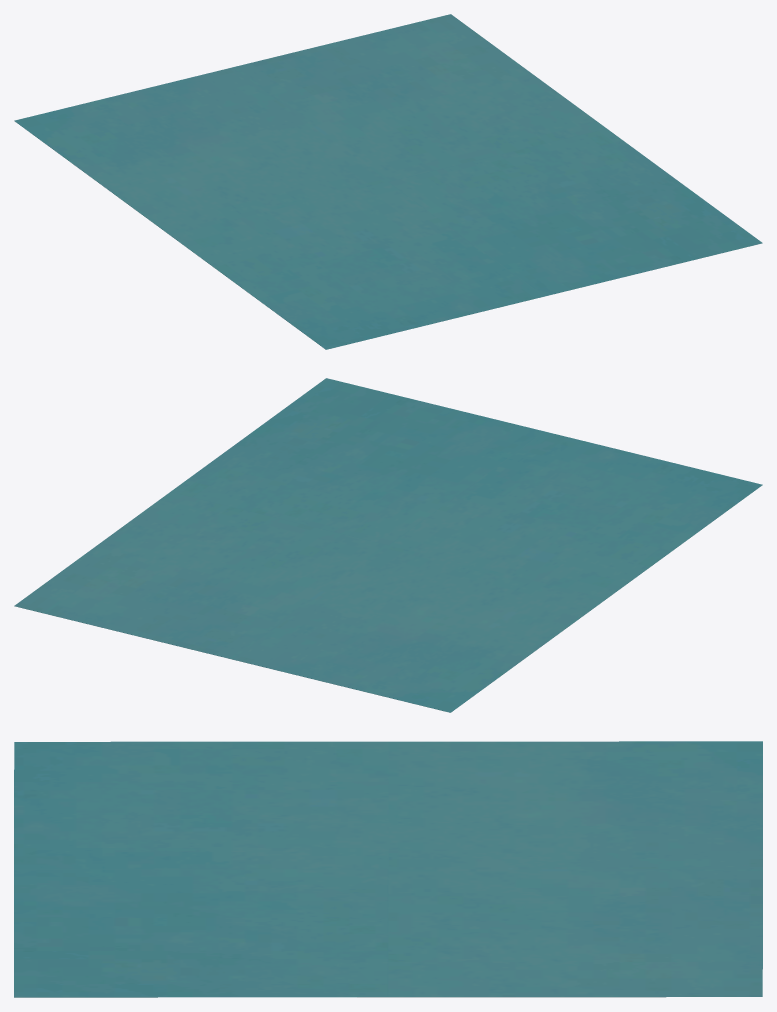
The model's file is ground.glb.
3 views of the same model, one above another, from view 1: azimuth 30°, elevation 25°; view 2: azimuth 150°, elevation 25°; view 3: azimuth 270°, elevation 25° (orthographic). The views are drawn at different scales.
Visible parts, largest first — view 1: BuildingMesh-00096.009; view 2: BuildingMesh-00096.009; view 3: BuildingMesh-00096.009.
Boxes of the visible parts, box(x1,y1,x2,y2) form: BuildingMesh-00096.009: box(14, 14, 762, 349); BuildingMesh-00096.009: box(14, 378, 762, 712); BuildingMesh-00096.009: box(14, 741, 762, 997).
Size of the model in its own units: 195 by 0.3034 by 241.
Materials: 1 (1 with a texture image).
